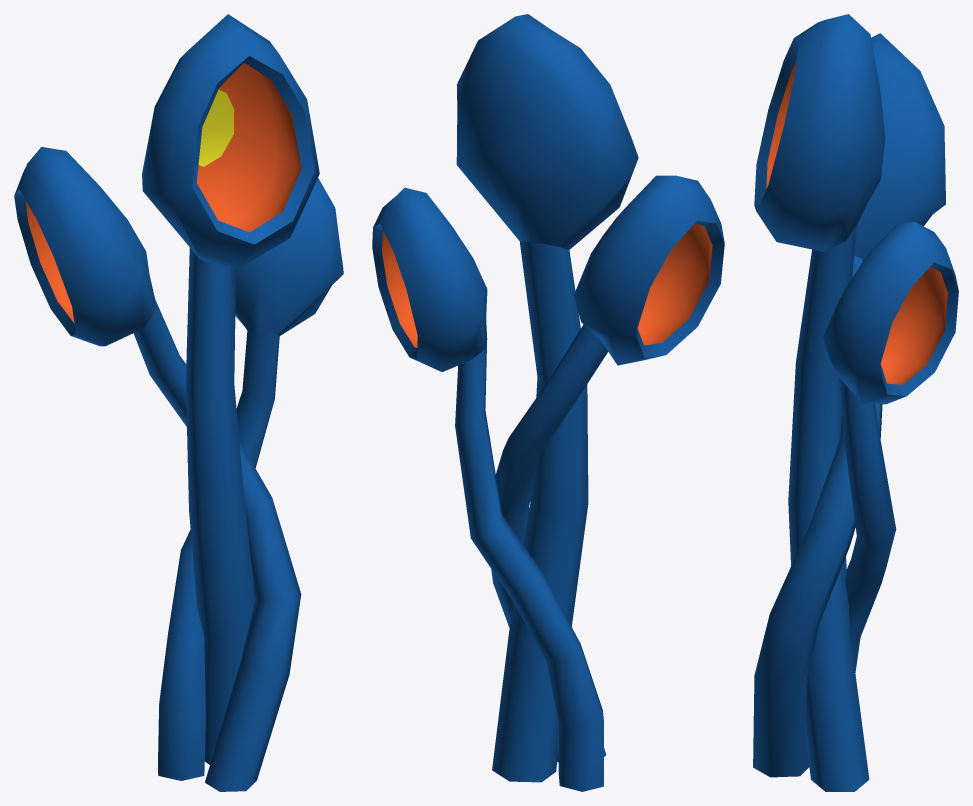
The model's file is Plant_5_blue.fbx.
3 renders of one model, left to right at view 1: azimuth 30°, elevation 25°; view 2: azimuth 150°, elevation 25°; view 3: azimuth 270°, elevation 25°, orthographic. The views are drawn at different scales.
Parts seen in each view (by area): view 1: Plant_5_blue; view 2: Plant_5_blue; view 3: Plant_5_blue.
Part boxes in pixels (bbox=[...]): Plant_5_blue: bbox=[14, 14, 343, 791]; Plant_5_blue: bbox=[372, 14, 724, 791]; Plant_5_blue: bbox=[753, 14, 958, 791].
Size of the model in its own units: 1.27 by 2.87 by 0.6971.
